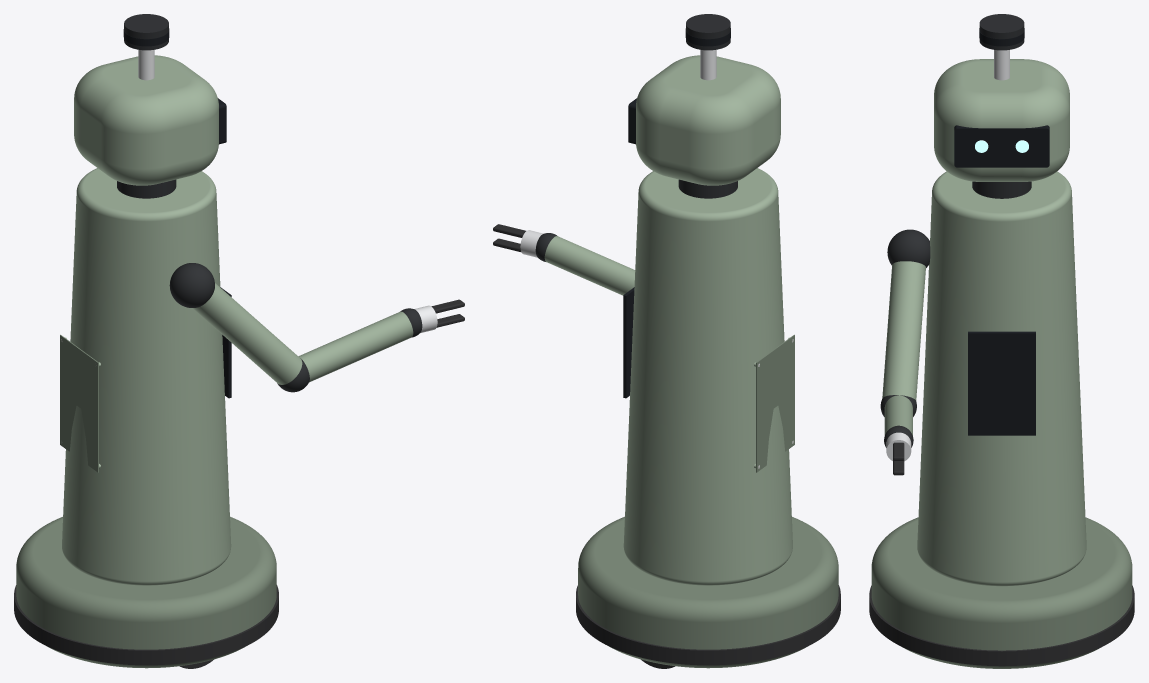
The picture shows the model from 3 angles, left to right: view 1: azimuth 30°, elevation 25°; view 2: azimuth 150°, elevation 25°; view 3: azimuth 270°, elevation 25°; orthographic projection.
Visible parts, largest first — view 1: body.1, accent.1, body.2, rubber.1, body.3, accent.145, body.4, coat.3, coat.2, coat.1; view 2: body.1, accent.1, body.2, rubber.1, accent.145, body.4, coat.2, glass.1, coat.1; view 3: body.1, accent.1, body.2, glass.1, body.3, rubber.1, glass.2, coat.3, coat.2, body.4, coat.1, metal.3 (+1 smaller).
Part boxes in pixels (x1,y1,x2,y2): body.1: (62,168,231,585); accent.1: (16,516,276,668); body.2: (74,55,218,185); rubber.1: (14,585,278,665); body.3: (192,283,302,384); accent.145: (60,334,98,472); body.4: (298,311,413,382); coat.3: (169,263,214,307); coat.2: (124,14,168,50); coat.1: (117,179,176,198); body.1: (623,168,792,585); accent.1: (578,516,838,668); body.2: (636,55,780,185); rubber.1: (576,585,840,665); accent.145: (756,334,794,472); body.4: (544,236,635,295); coat.2: (686,14,730,50); glass.1: (623,287,634,398); coat.1: (678,179,737,198); body.1: (917,171,1086,586); accent.1: (871,517,1132,668); body.2: (934,59,1069,181); glass.1: (968,331,1035,435); body.3: (882,261,925,400); rubber.1: (869,585,1134,666); glass.2: (954,125,1049,167); coat.3: (887,229,930,267); coat.2: (979,14,1024,50); body.4: (884,395,912,435); coat.1: (972,181,1031,198); metal.3: (994,50,1009,80).
Bounding box in the file's own units: 0.7735 × 1.18 × 0.4679.
